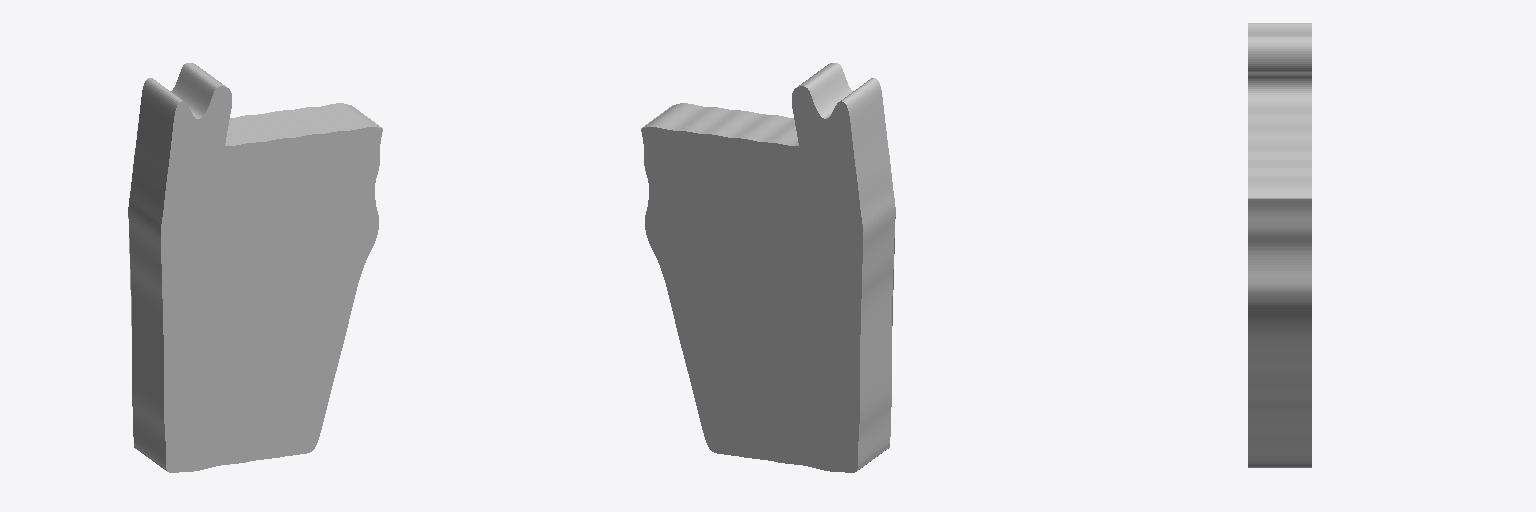
3 renders of one model, left to right at view 1: azimuth 30°, elevation 25°; view 2: azimuth 150°, elevation 25°; view 3: azimuth 270°, elevation 25°, orthographic.
Parts seen in each view (by area): view 1: 平面; view 2: 平面; view 3: 平面.
Boxes of the visible parts, box(x1,y1,x2,y2) form: 平面: box(128, 63, 382, 472); 平面: box(641, 63, 895, 472); 平面: box(1248, 23, 1311, 467).
Bounding box in the file's own units: 0.7943 × 1.32 × 0.2.